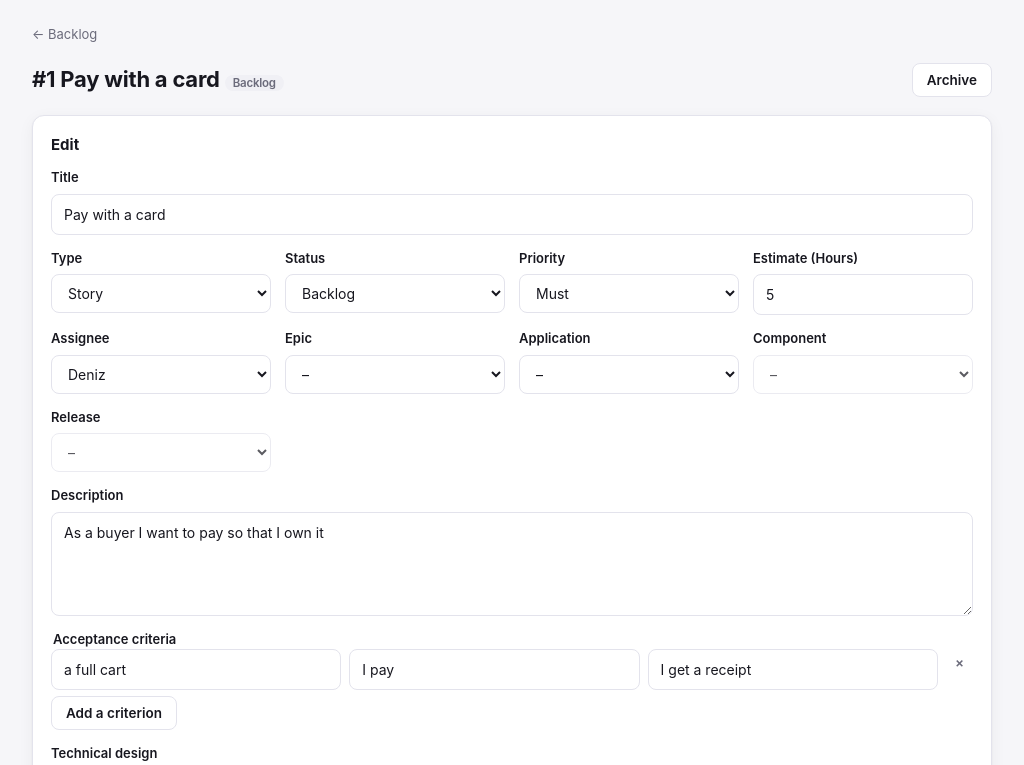
Scenario: the issue form: fields and the whole replace › closes with Cancel and keeps the issue as it was
In the field labelled "Title": (512, 214) [51,194,973,234], type " more"
(page scrolled)
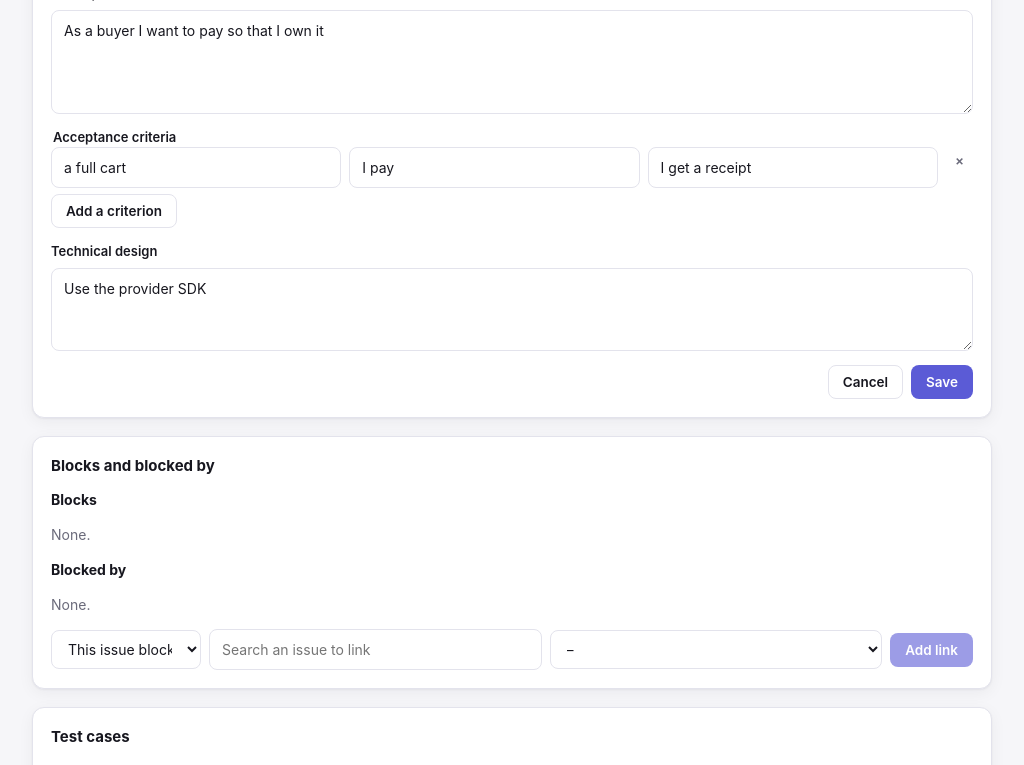
Click the button "Cancel": (865, 382) [828,364,903,398]
(page scrolled)
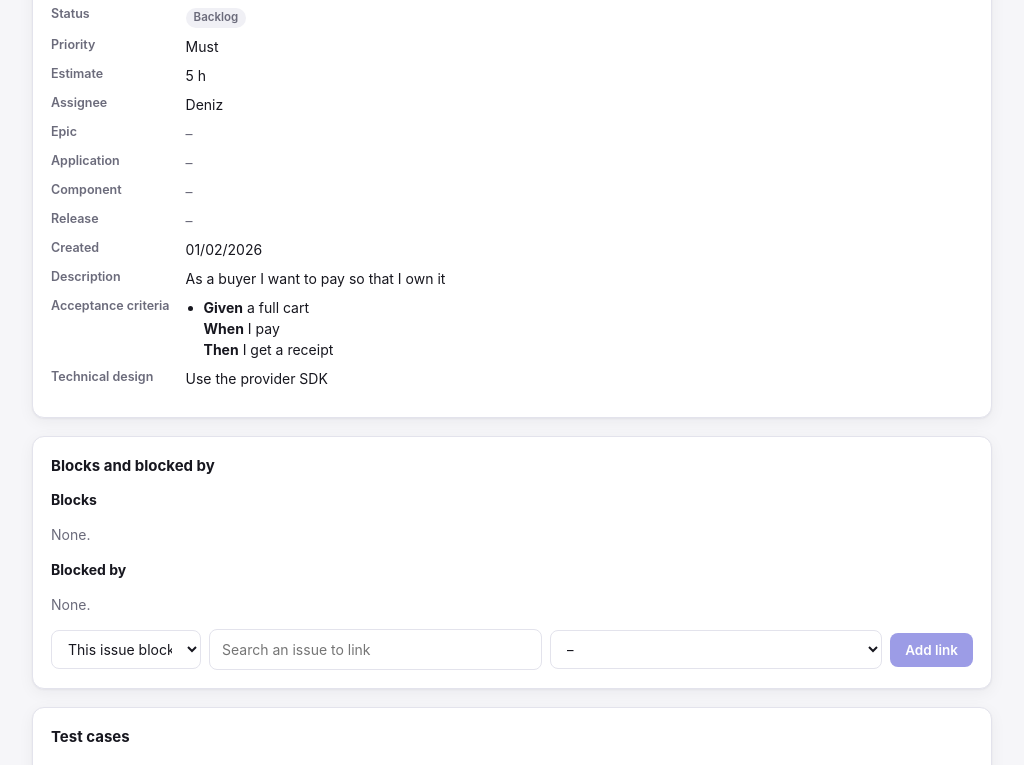
expect the text "Use the provider SDK" is shown: met, box [186,370,328,386]
